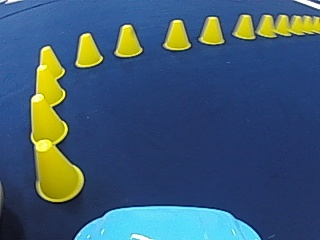cone: (33, 140, 84, 200), (34, 45, 67, 102), (29, 94, 68, 142), (73, 31, 103, 67), (112, 23, 143, 57), (39, 44, 65, 80), (162, 19, 191, 50), (198, 15, 224, 45), (231, 13, 255, 40), (255, 13, 275, 37), (274, 13, 290, 35), (289, 15, 304, 34), (35, 138, 52, 151), (302, 15, 314, 33)
